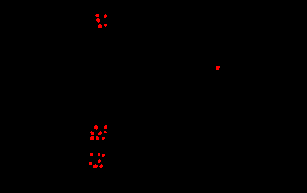Target: (96, 18, 100, 23), (94, 125, 98, 130), (93, 164, 98, 168), (98, 24, 102, 28), (216, 66, 220, 70), (90, 131, 94, 135), (98, 131, 102, 135), (90, 136, 94, 140), (99, 164, 103, 168), (95, 14, 99, 17), (104, 14, 107, 18), (104, 125, 107, 129), (96, 136, 99, 140), (98, 159, 101, 163), (104, 24, 107, 27), (102, 137, 105, 140), (90, 153, 93, 156), (102, 154, 105, 157), (89, 162, 92, 165), (104, 131, 107, 133), (98, 153, 100, 156)
